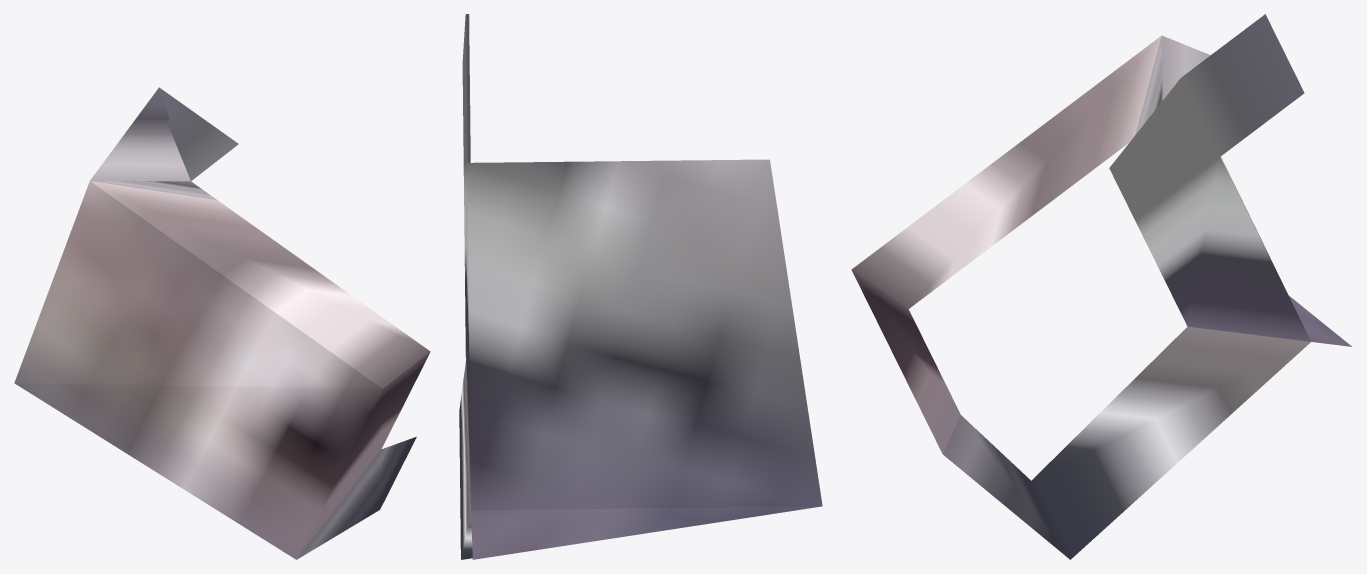
3 renders of one model, left to right at view 1: azimuth 30°, elevation 25°; view 2: azimuth 150°, elevation 25°; view 3: azimuth 270°, elevation 25°, orthographic. The views are drawn at different scales.
Size of the model in its own units: 3.45 by 4.63 by 4.24.
1 material, 1 textured.
